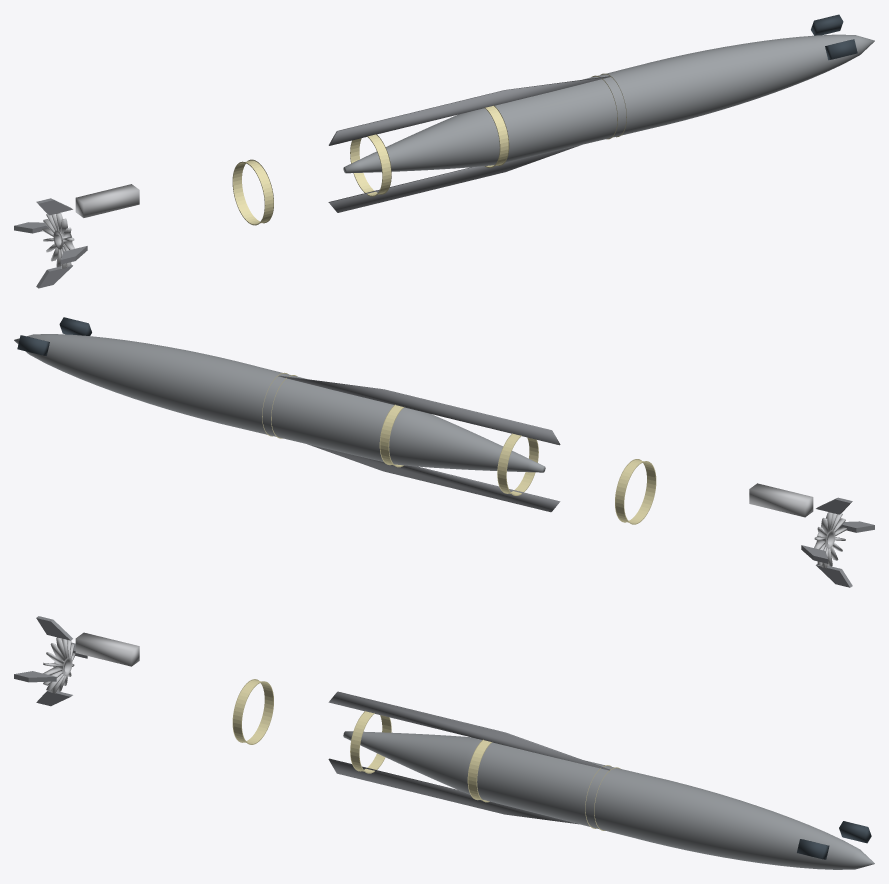
The model's file is RU_TORP_TEST96_LOD0.fbx.
The picture shows the model from 3 angles, top to bottom: view 1: azimuth 30°, elevation 25°; view 2: azimuth 150°, elevation 25°; view 3: azimuth 330°, elevation 25°; orthographic projection.
Visible parts, largest first — view 1: WPN_RU_TORP_TEST96_LOD0_Body, WPN_RU_TORP_TEST96_LOD0_Detail, WPN_RU_TORP_TEST96_LOD0_Marking, WPN_RU_TORP_TEST96_LOD0_Fins, WPN_RU_TORP_TEST96_LOD0_Propulsor, WPN_RU_TORP_TEST96_LOD0_Seeker; view 2: WPN_RU_TORP_TEST96_LOD0_Body, WPN_RU_TORP_TEST96_LOD0_Detail, WPN_RU_TORP_TEST96_LOD0_Marking, WPN_RU_TORP_TEST96_LOD0_Fins, WPN_RU_TORP_TEST96_LOD0_Propulsor, WPN_RU_TORP_TEST96_LOD0_Seeker; view 3: WPN_RU_TORP_TEST96_LOD0_Body, WPN_RU_TORP_TEST96_LOD0_Detail, WPN_RU_TORP_TEST96_LOD0_Marking, WPN_RU_TORP_TEST96_LOD0_Fins, WPN_RU_TORP_TEST96_LOD0_Propulsor, WPN_RU_TORP_TEST96_LOD0_Seeker.
Part boxes in pixels (left/top/right/bottom): WPN_RU_TORP_TEST96_LOD0_Body: left=343, top=34, right=874, bottom=173; WPN_RU_TORP_TEST96_LOD0_Detail: left=75, top=76, right=610, bottom=217; WPN_RU_TORP_TEST96_LOD0_Marking: left=232, top=73, right=626, bottom=225; WPN_RU_TORP_TEST96_LOD0_Fins: left=14, top=198, right=87, bottom=288; WPN_RU_TORP_TEST96_LOD0_Propulsor: left=42, top=213, right=74, bottom=268; WPN_RU_TORP_TEST96_LOD0_Seeker: left=811, top=14, right=857, bottom=60; WPN_RU_TORP_TEST96_LOD0_Body: left=14, top=334, right=545, bottom=472; WPN_RU_TORP_TEST96_LOD0_Detail: left=278, top=375, right=813, bottom=517; WPN_RU_TORP_TEST96_LOD0_Marking: left=262, top=372, right=656, bottom=524; WPN_RU_TORP_TEST96_LOD0_Fins: left=801, top=497, right=874, bottom=587; WPN_RU_TORP_TEST96_LOD0_Propulsor: left=814, top=512, right=846, bottom=568; WPN_RU_TORP_TEST96_LOD0_Seeker: left=17, top=317, right=91, bottom=355; WPN_RU_TORP_TEST96_LOD0_Body: left=343, top=731, right=874, bottom=869; WPN_RU_TORP_TEST96_LOD0_Detail: left=75, top=632, right=609, bottom=824; WPN_RU_TORP_TEST96_LOD0_Marking: left=232, top=679, right=620, bottom=830; WPN_RU_TORP_TEST96_LOD0_Fins: left=14, top=616, right=87, bottom=706; WPN_RU_TORP_TEST96_LOD0_Propulsor: left=43, top=637, right=75, bottom=693; WPN_RU_TORP_TEST96_LOD0_Seeker: left=797, top=821, right=871, bottom=859.
Size of the model in its own units: 7.98 by 0.7715 by 0.7715.
